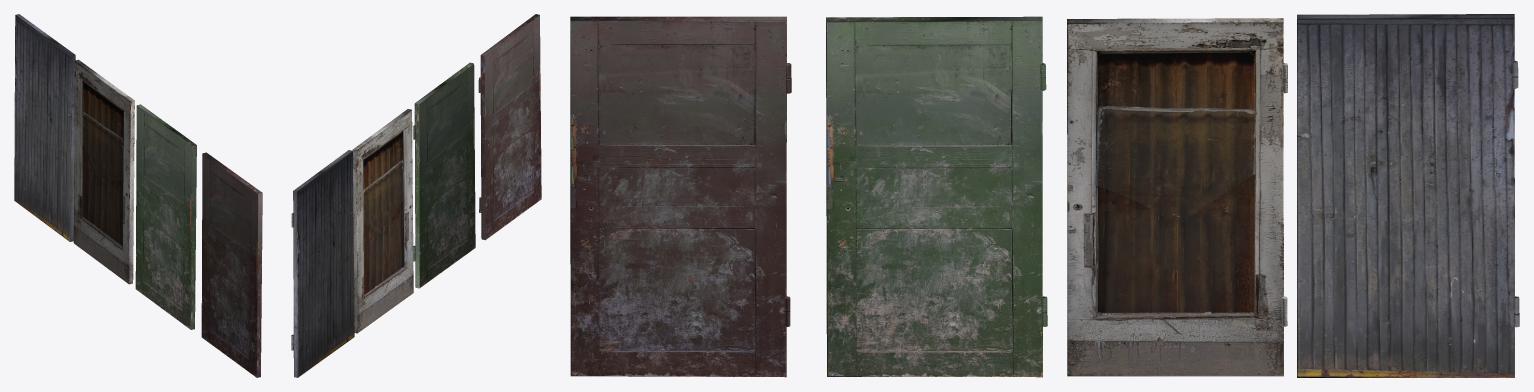
File: Doors.fbx
3 renders of one model, left to right at view 1: azimuth 30°, elevation 25°; view 2: azimuth 150°, elevation 25°; view 3: azimuth 270°, elevation 25°, orthographic. The views are drawn at different scales.
Visible parts, largest first — view 1: Door04, Door01, Door02, Door03; view 2: Door04, Door02, Door01, Door03; view 3: Door04, Door02, Door01, Door03.
Boxes of the visible parts, x1=… form: Door04: x1=14, y1=14, x2=75, y2=241; Door01: x1=135, y1=104, x2=196, y2=329; Door02: x1=201, y1=152, x2=262, y2=377; Door03: x1=73, y1=59, x2=134, y2=284; Door04: x1=291, y1=150, x2=354, y2=377; Door02: x1=478, y1=14, x2=541, y2=240; Door01: x1=413, y1=62, x2=475, y2=288; Door03: x1=352, y1=109, x2=413, y2=333; Door04: x1=1297, y1=14, x2=1519, y2=377; Door02: x1=570, y1=16, x2=791, y2=377; Door01: x1=826, y1=16, x2=1047, y2=377; Door03: x1=1067, y1=18, x2=1287, y2=376.
Size of the model in its own units: 9.03 by 234 by 557.
1 material, 1 textured.
